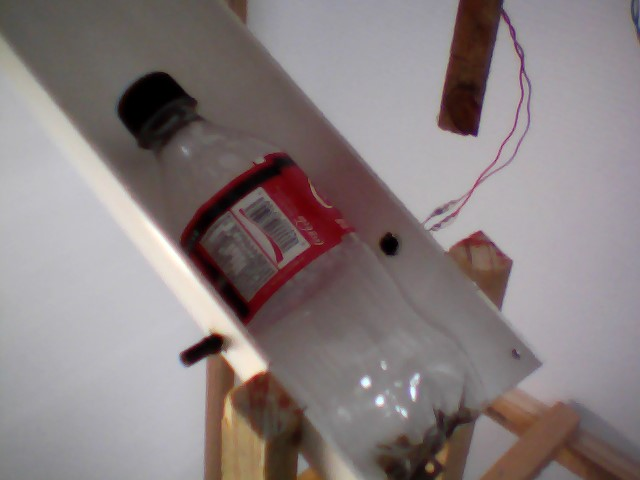plastico: (113, 72, 496, 480)
